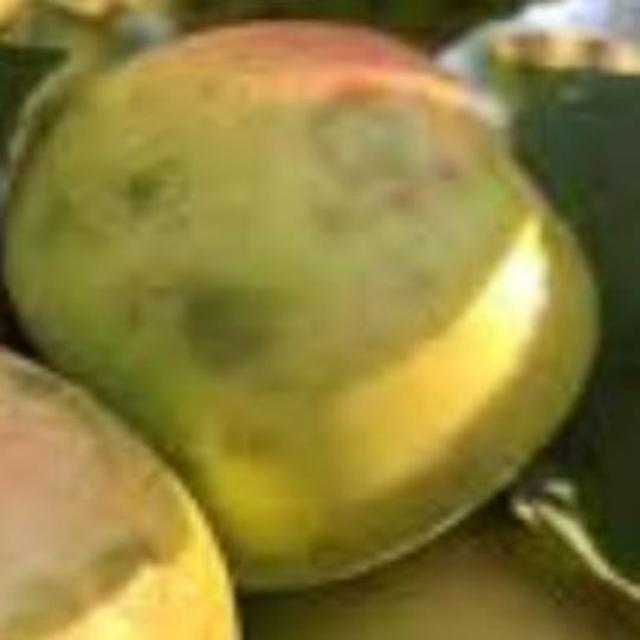Rotten Apple: (28, 4, 608, 580)
